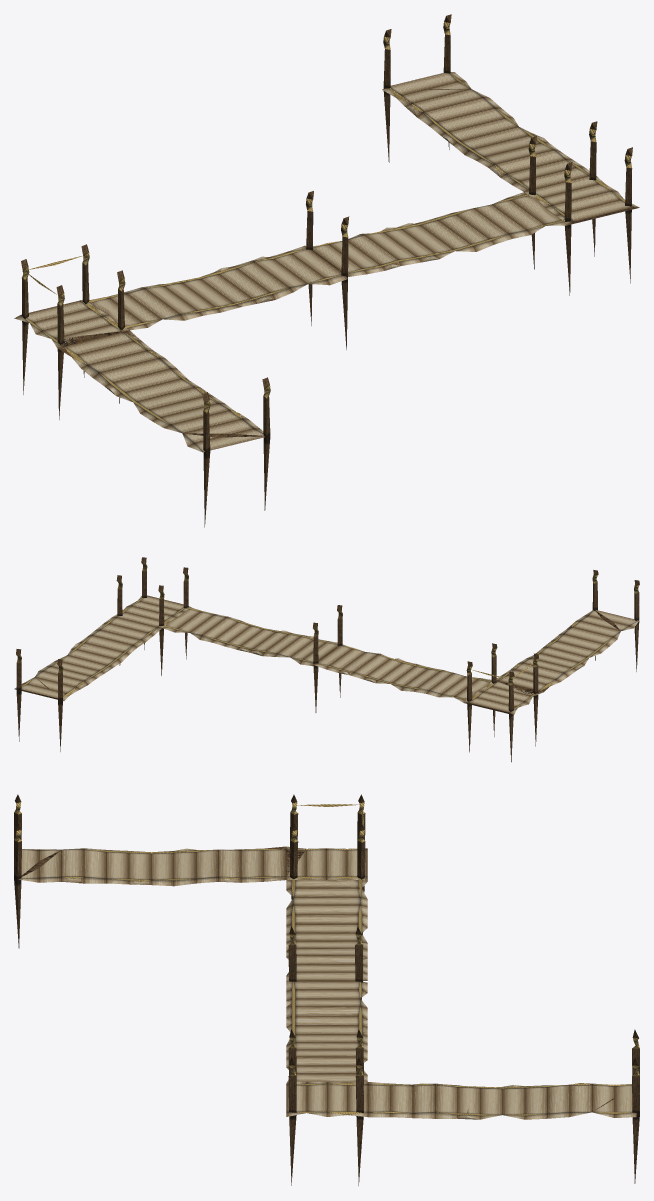
The model's file is p2_platform1_S_LOD1.fbx.
3 renders of one model, top to bottom at view 1: azimuth 30°, elevation 25°; view 2: azimuth 150°, elevation 25°; view 3: azimuth 270°, elevation 25°, orthographic. The views are drawn at different scales.
Parts seen in each view (by area): view 1: polymsh; view 2: polymsh; view 3: polymsh.
Part boxes in pixels (left/top/right/bottom): polymsh: left=14, top=14, right=639, bottom=527; polymsh: left=14, top=557, right=639, bottom=762; polymsh: left=14, top=794, right=639, bottom=1185.
Size of the model in its own units: 801 by 179 by 788.
